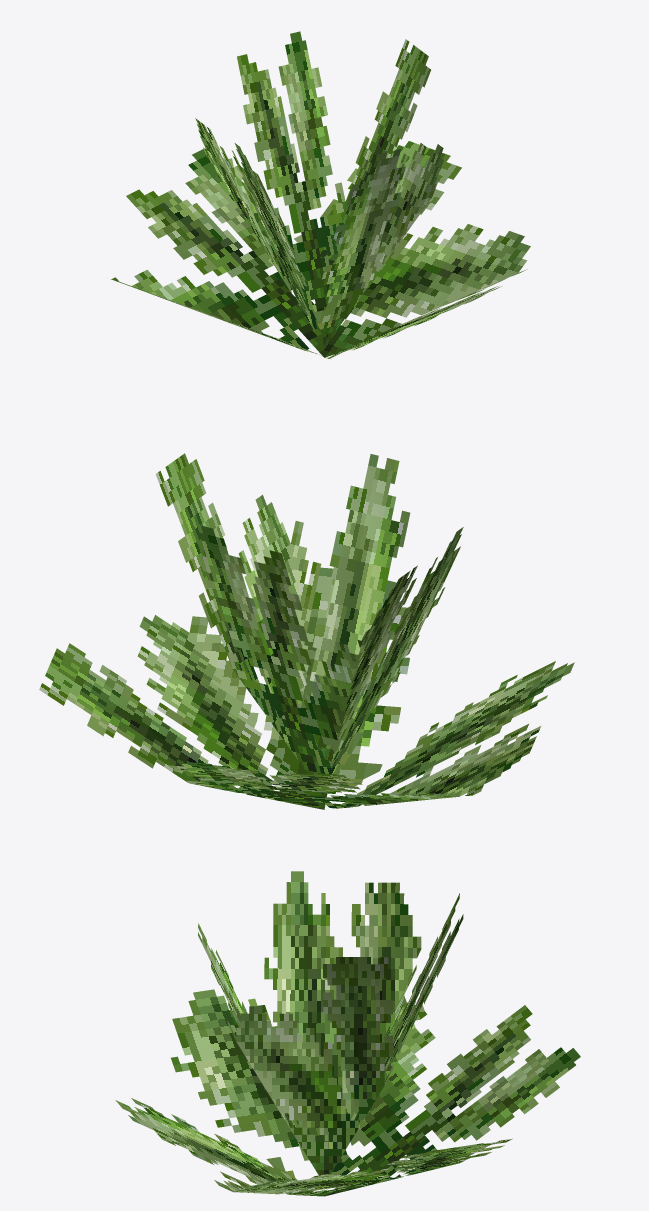
File: wrld_fol_plant_lg.glb
3 views of the same model, one above another, from view 1: azimuth 30°, elevation 25°; view 2: azimuth 150°, elevation 25°; view 3: azimuth 270°, elevation 25° (orthographic). The views are drawn at different scales.
Parts seen in each view (by area): view 1: wrld_fol_plant_lg; view 2: wrld_fol_plant_lg; view 3: wrld_fol_plant_lg.
Boxes of the visible parts, x1,y1,x2,y2 form: wrld_fol_plant_lg: [111, 31, 530, 358]; wrld_fol_plant_lg: [39, 453, 574, 809]; wrld_fol_plant_lg: [115, 871, 580, 1196].
Size of the model in its own units: 3.86 by 2.05 by 3.86.
Materials: 1 (1 with a texture image).
